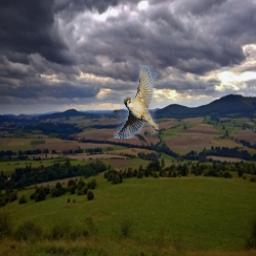Sparrow: (114, 65, 159, 138)
